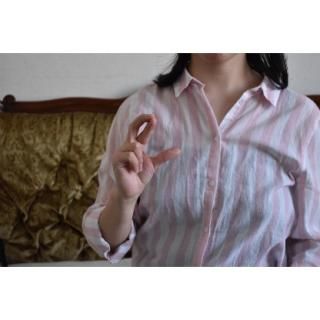DHELL: (109, 111, 186, 214)
